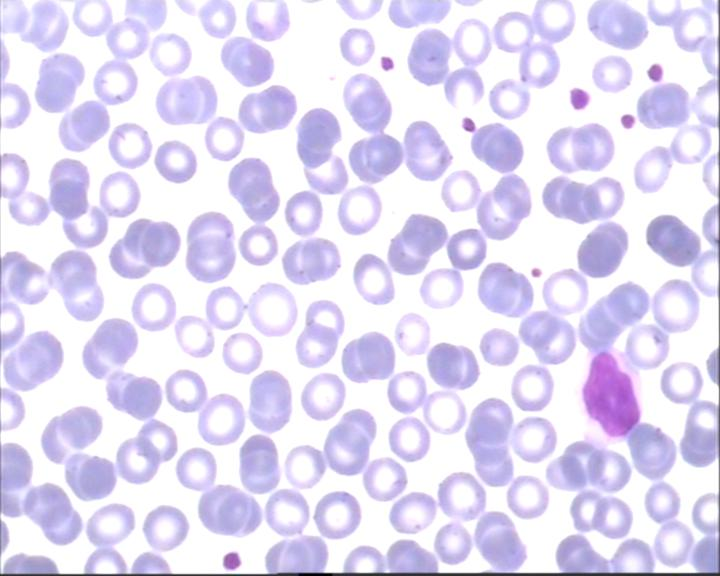mono: (572, 346, 645, 446)
